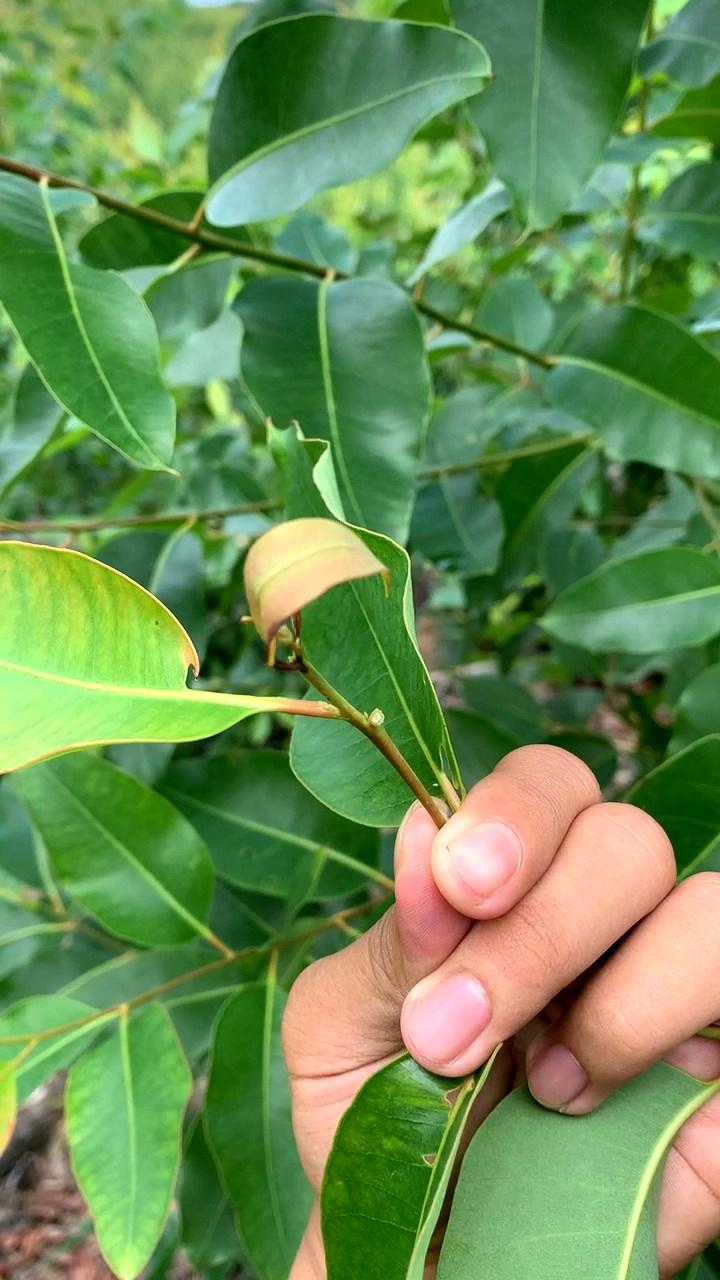Helopeltis-Withered Sprout: (226, 510, 391, 661)
